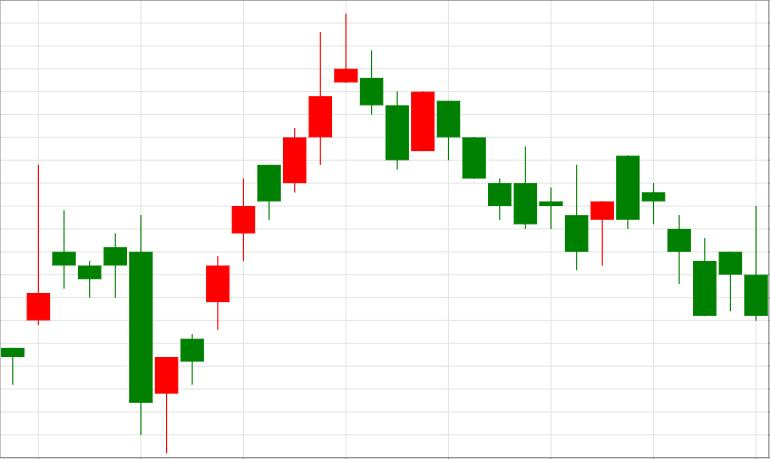hammer_rise: (53, 209, 178, 454)
inverse_hammer_rise: (437, 101, 588, 271)
shooting_star_fall: (206, 32, 332, 329)
